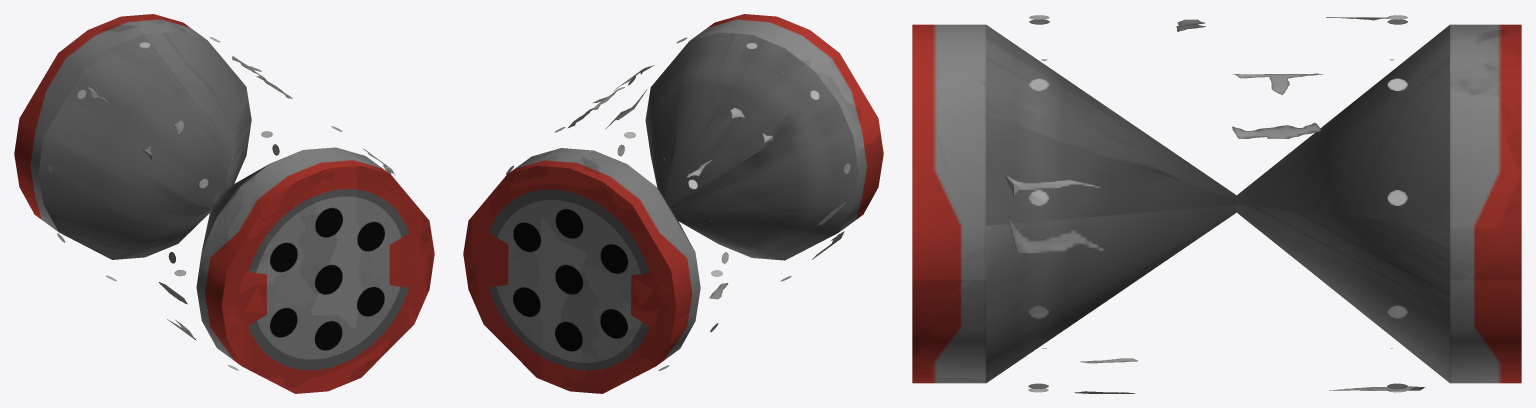
The model's file is env_building_silopipe01_lod1.fbx.
3 views of the same model, side by side, from view 1: azimuth 30°, elevation 25°; view 2: azimuth 150°, elevation 25°; view 3: azimuth 270°, elevation 25° (orthographic). The views are drawn at different scales.
Visible parts, largest first — view 1: polySurface1565; view 2: polySurface1565; view 3: polySurface1565.
Boxes of the visible parts, x1=… form: polySurface1565: x1=14, y1=14, x2=434, y2=393; polySurface1565: x1=463, y1=14, x2=883, y2=393; polySurface1565: x1=912, y1=15, x2=1521, y2=393.
Bounding box in the file's own units: 33.46 × 33.46 × 52.67.
